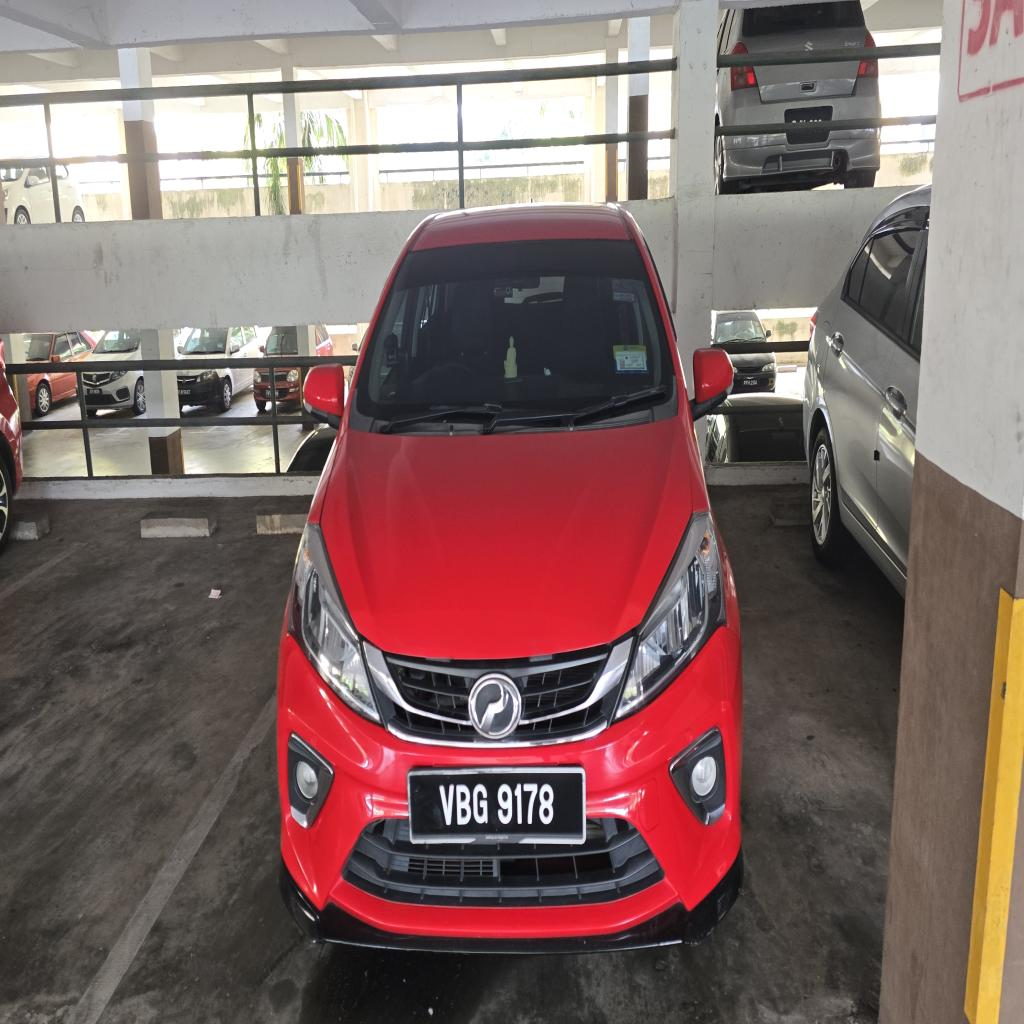car: (277, 206, 742, 950)
car plate: (408, 768, 585, 843)
